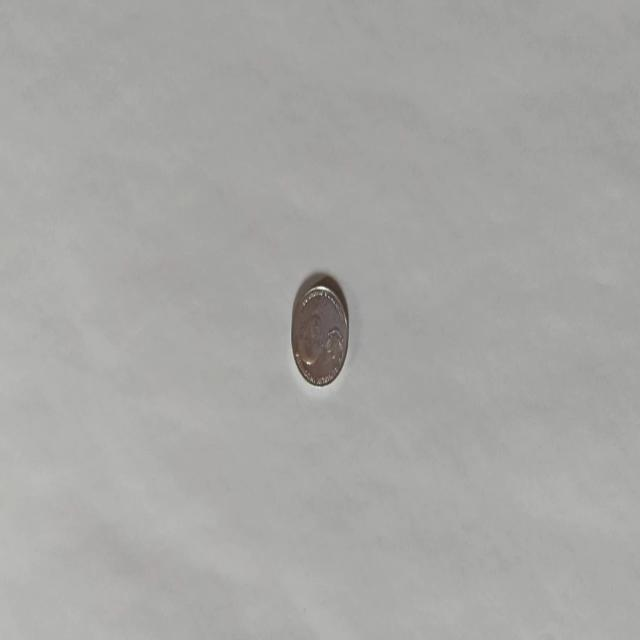lima ratus rupiah: (290, 278, 349, 388)
